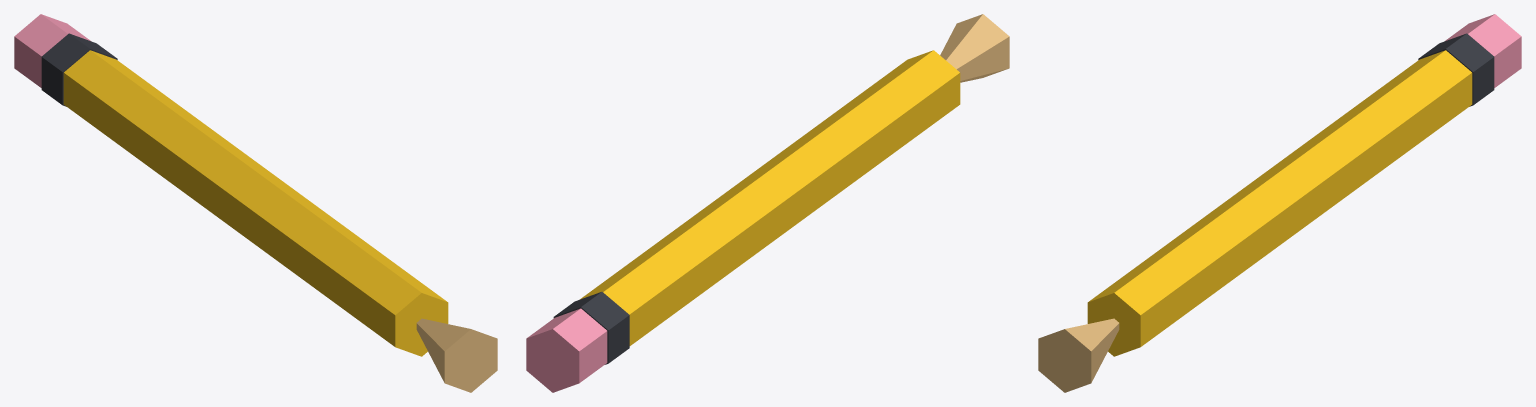
Rendered from giant_pencil.fbx.
3 renders of one model, left to right at view 1: azimuth 30°, elevation 25°; view 2: azimuth 150°, elevation 25°; view 3: azimuth 330°, elevation 25°, orthographic.
Visible parts, largest first — view 1: giant_pencil; view 2: giant_pencil; view 3: giant_pencil.
Part boxes in pixels (bbox=[...]): giant_pencil: bbox=[14, 14, 497, 392]; giant_pencil: bbox=[526, 14, 1009, 392]; giant_pencil: bbox=[1038, 14, 1521, 392].
Size of the model in its own units: 0.0901 by 0.104 by 1.22.
